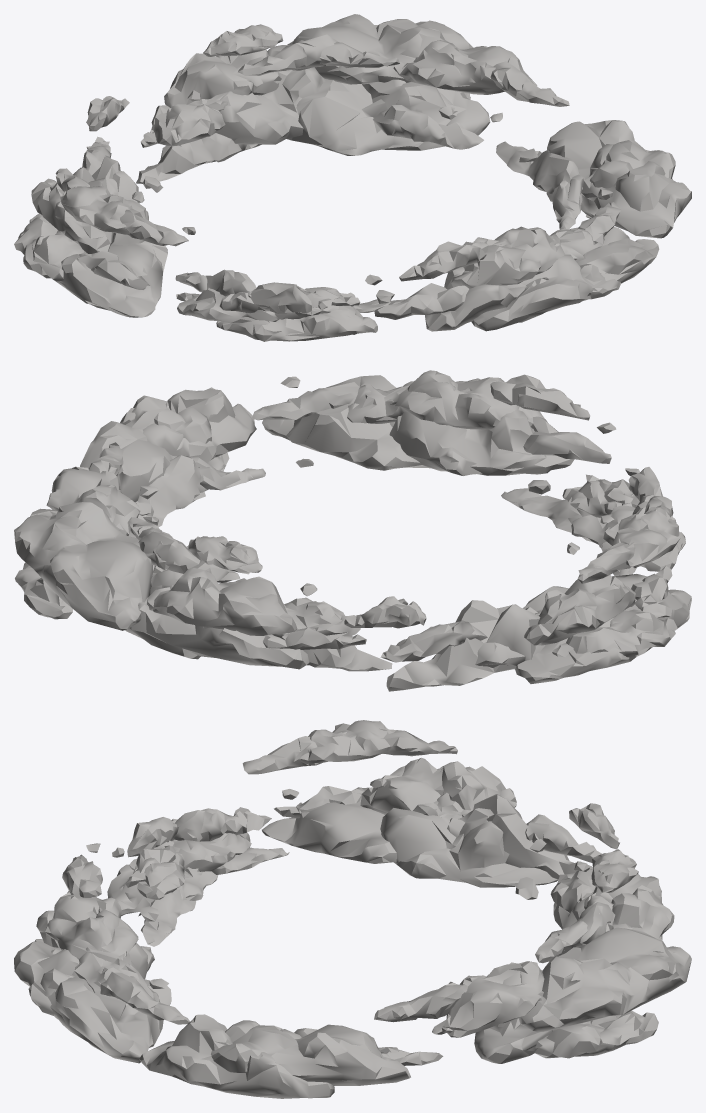
The model's file is desert_SM_Env_Cloud_Ring_02.gltf.
3 renders of one model, top to bottom at view 1: azimuth 30°, elevation 25°; view 2: azimuth 150°, elevation 25°; view 3: azimuth 270°, elevation 25°, orthographic. The views are drawn at different scales.
Visible parts, largest first — view 1: SM_Env_Cloud_Ring_02; view 2: SM_Env_Cloud_Ring_02; view 3: SM_Env_Cloud_Ring_02.
Part boxes in pixels (bbox=[...]): SM_Env_Cloud_Ring_02: bbox=[14, 14, 691, 341]; SM_Env_Cloud_Ring_02: bbox=[14, 370, 691, 691]; SM_Env_Cloud_Ring_02: bbox=[14, 720, 691, 1098].
Bounding box in the file's own units: 310 × 54.42 × 295.
1 material, 1 textured.
